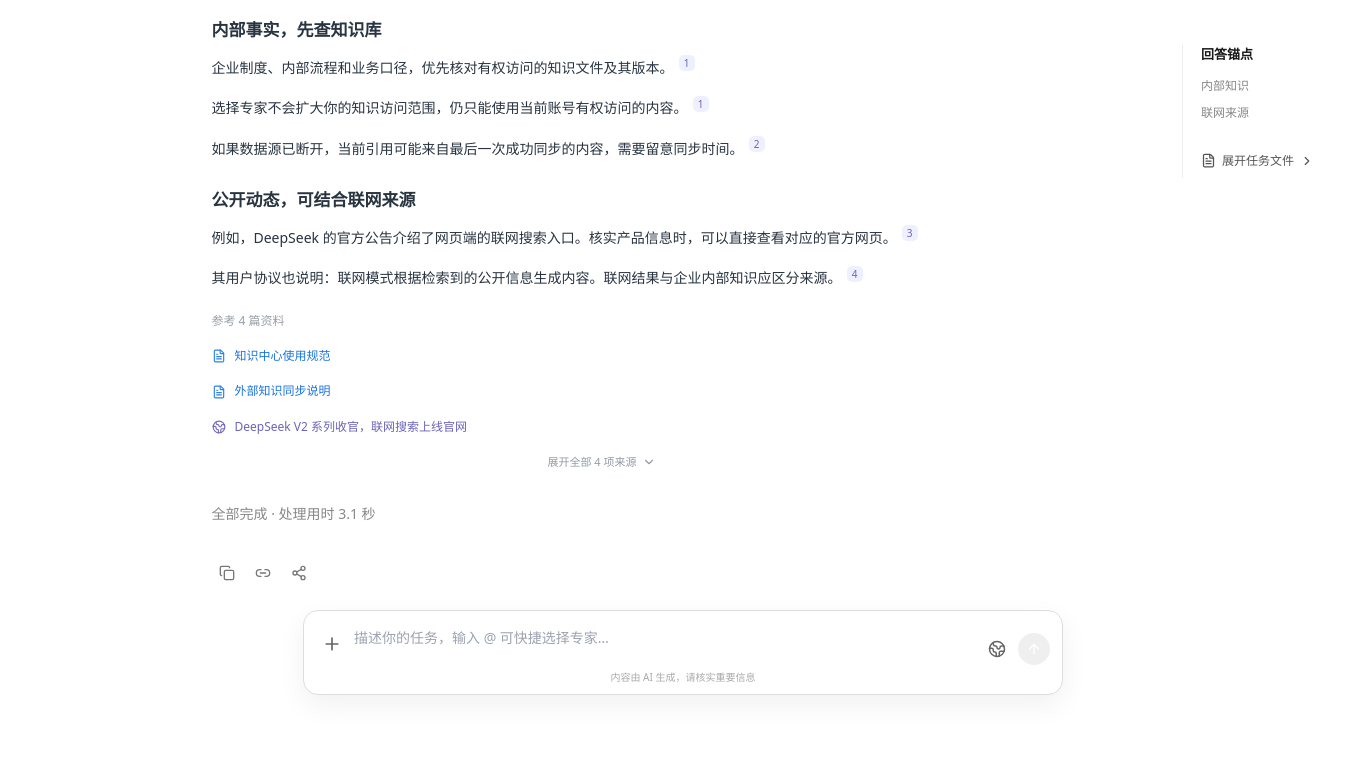
it: conversation knowledge-source previews › uses the current READER permission in the active conversation preview
The width and height of the screenshot is (1366, 768).
(page scrolled)
Click the button "知识中心使用规范". click: coordinates (283, 355)
box: [212, 342, 992, 370]
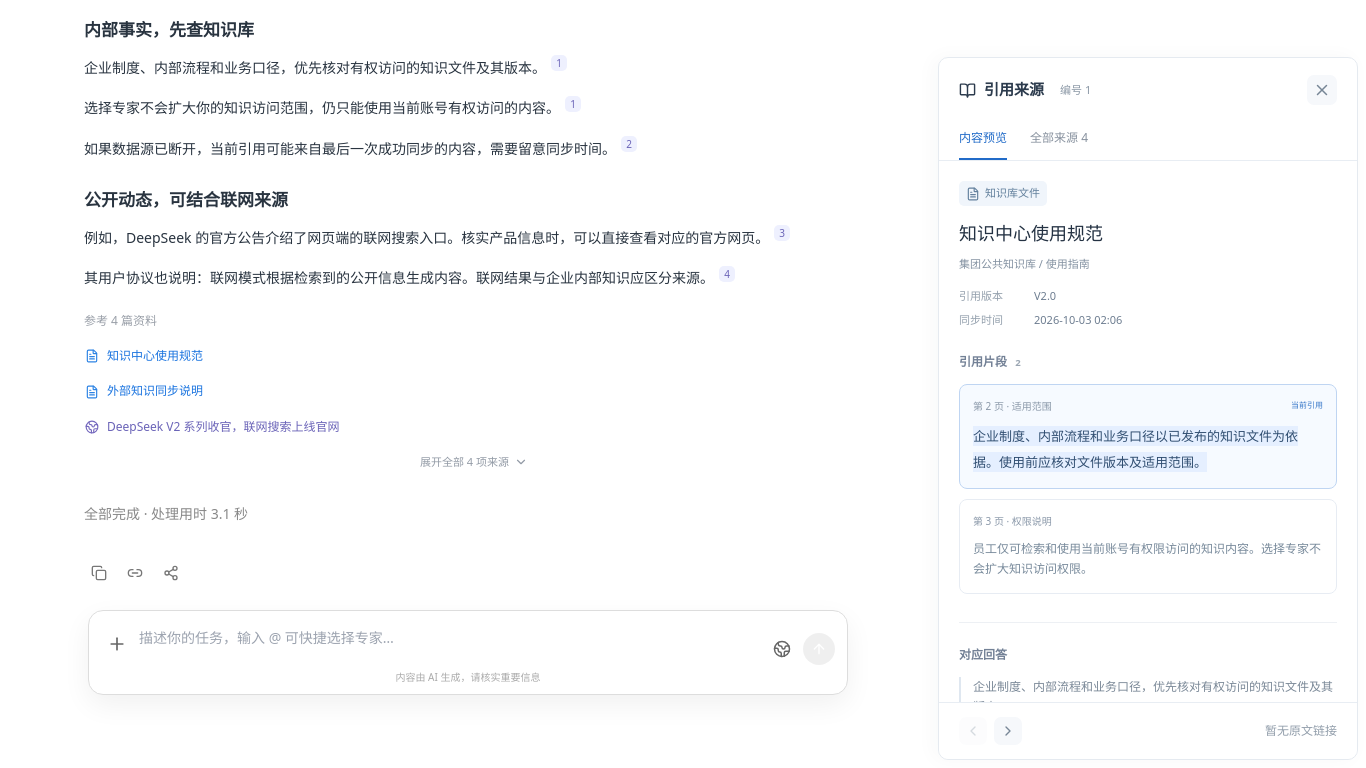
Expected: the element with test id "citation-preview" shows "知识中心使用规范", [959, 221, 1103, 245]
